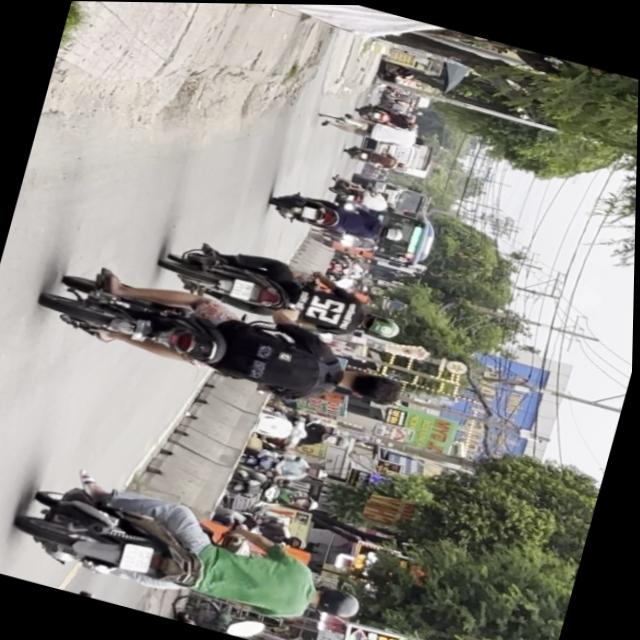helmet: (312, 581, 367, 623), (361, 312, 403, 341)
licenseplate: (31, 253, 417, 428), (7, 461, 382, 640), (153, 230, 413, 354)
motorcyclist: (333, 362, 406, 410)
nohelmet: (121, 540, 157, 574), (229, 278, 255, 301)
